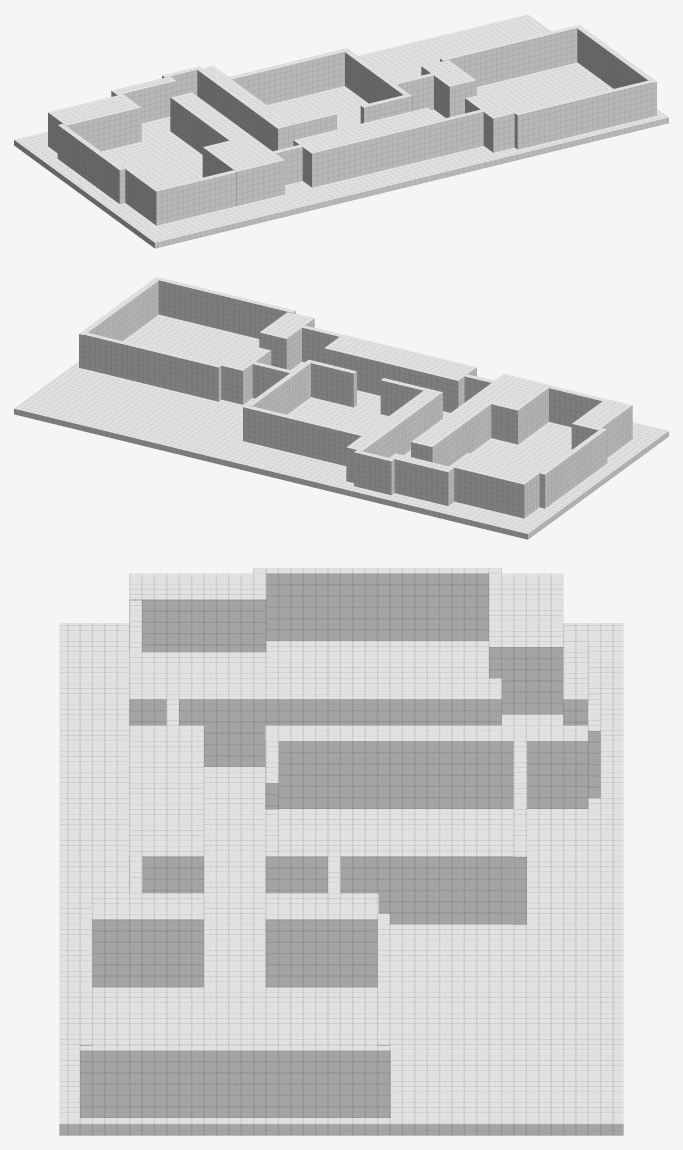
The model's file is Stage1StaticCol.fbx.
3 renders of one model, top to bottom at view 1: azimuth 30°, elevation 25°; view 2: azimuth 150°, elevation 25°; view 3: azimuth 270°, elevation 25°, orthographic. The views are drawn at different scales.
Visible parts, largest first — view 1: Cube, Cube__15_, Cube_1, Cube__1_, Cube__12_, Cube__16_, Cube__9_, Cube__20_, Cube__7_, Cube__10_, Cube__2_, Cube__6_ (+11 smaller); view 2: Cube, Cube__15_, Cube__1_, Cube_1, Cube__9_, Cube__12_, Cube__20_, Cube__16_, Cube__6_, Cube__10_, Cube__2_, Cube__11_ (+11 smaller); view 3: Cube, Cube__16_, Cube__2_, Cube__12_, Cube__10_, Cube__19_, Cube__15_, Cube__24_, Cube__23_, Cube__7_, Cube__9_, Cube__6_ (+7 smaller).
Boxes of the visible parts, x1,y1,x2,y2 form: Cube: [14, 14, 668, 248]; Cube__15_: [293, 107, 446, 187]; Cube_1: [514, 80, 651, 149]; Cube__1_: [440, 26, 577, 86]; Cube__12_: [170, 92, 284, 199]; Cube__16_: [197, 66, 294, 151]; Cube__9_: [48, 94, 141, 152]; Cube__20_: [228, 48, 350, 104]; Cube__7_: [122, 160, 182, 225]; Cube__10_: [57, 123, 125, 203]; Cube__2_: [575, 25, 656, 116]; Cube__6_: [202, 140, 263, 205]; Cube: [14, 314, 668, 539]; Cube__15_: [324, 334, 476, 412]; Cube__1_: [84, 332, 221, 401]; Cube_1: [158, 278, 295, 338]; Cube__9_: [449, 453, 542, 518]; Cube__12_: [411, 374, 524, 466]; Cube__20_: [243, 405, 364, 465]; Cube__16_: [346, 388, 442, 482]; Cube__6_: [491, 379, 551, 444]; Cube__10_: [539, 428, 607, 508]; Cube__2_: [79, 277, 160, 368]; Cube__11_: [389, 453, 454, 505]; Cube: [59, 623, 623, 1135]; Cube__16_: [265, 725, 588, 808]; Cube__2_: [80, 1045, 390, 1117]; Cube__12_: [129, 678, 501, 766]; Cube__10_: [253, 568, 501, 640]; Cube__19_: [277, 851, 513, 924]; Cube__15_: [129, 725, 203, 893]; Cube__24_: [265, 893, 378, 987]; Cube__23_: [91, 893, 203, 987]; Cube__7_: [129, 573, 266, 652]; Cube__9_: [489, 573, 563, 714]; Cube__6_: [129, 652, 266, 678].
Size of the model in its own units: 9576 by 706 by 4551.
